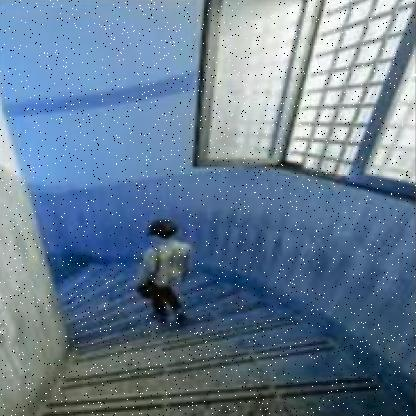stair_down: (79, 319, 281, 414)
